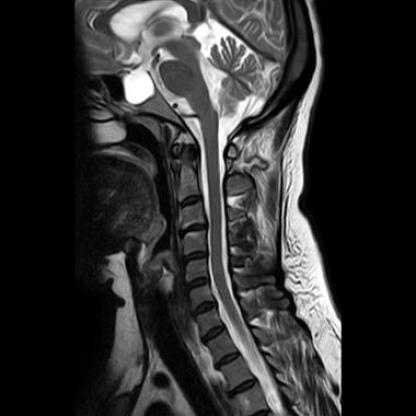Disc Bulgerotation: (177, 222, 209, 237), (180, 251, 208, 267)
